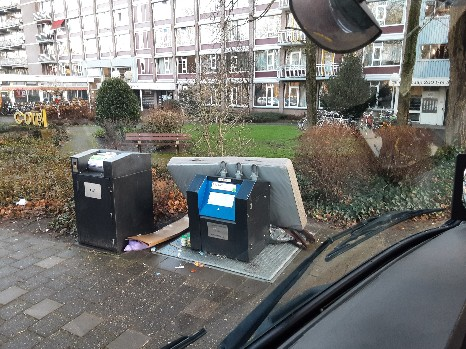Container: (188, 174, 267, 258), (81, 147, 144, 244)
Rest: (269, 165, 312, 244), (131, 214, 188, 257), (169, 159, 287, 175)
